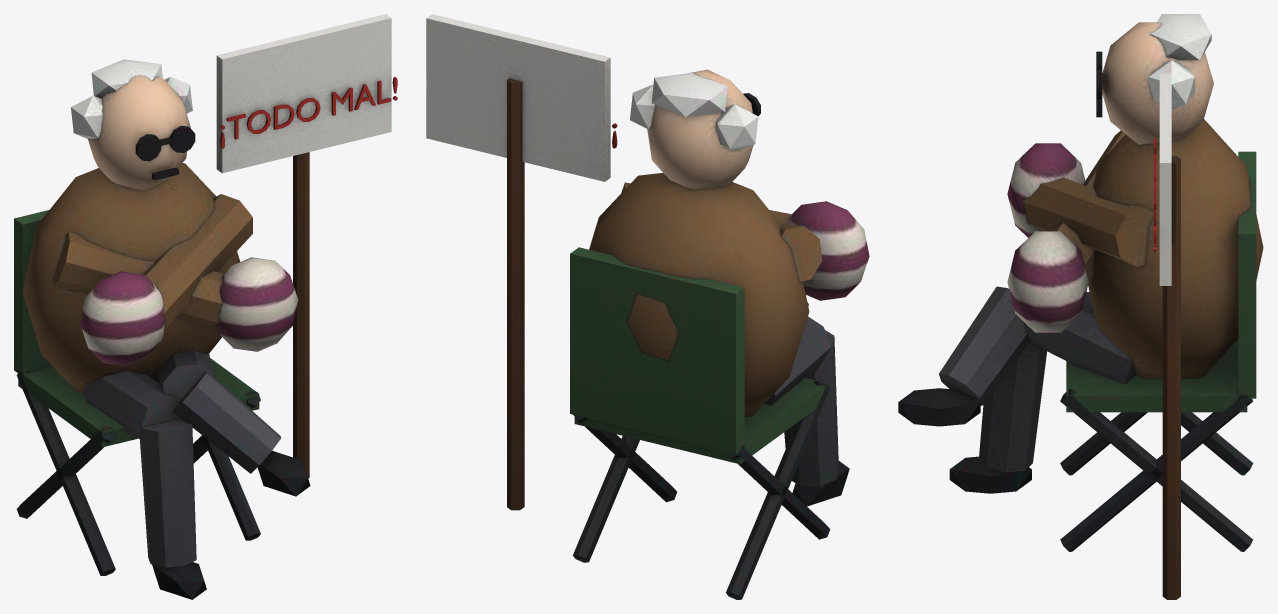
The model's file is senador_manoplas.glb.
The picture shows the model from 3 angles, left to right: view 1: azimuth 30°, elevation 25°; view 2: azimuth 150°, elevation 25°; view 3: azimuth 270°, elevation 25°; orthographic projection. The views are drawn at different scales.
Visible parts, largest first — view 1: senador_manoplas; view 2: senador_manoplas; view 3: senador_manoplas.
Part boxes in pixels (x1,y1,x2,y2): senador_manoplas: [14, 14, 397, 599]; senador_manoplas: [426, 14, 869, 599]; senador_manoplas: [898, 14, 1263, 599].
Size of the model in its own units: 1.49 by 1.81 by 1.21.
Materials: 1 (1 with a texture image).
